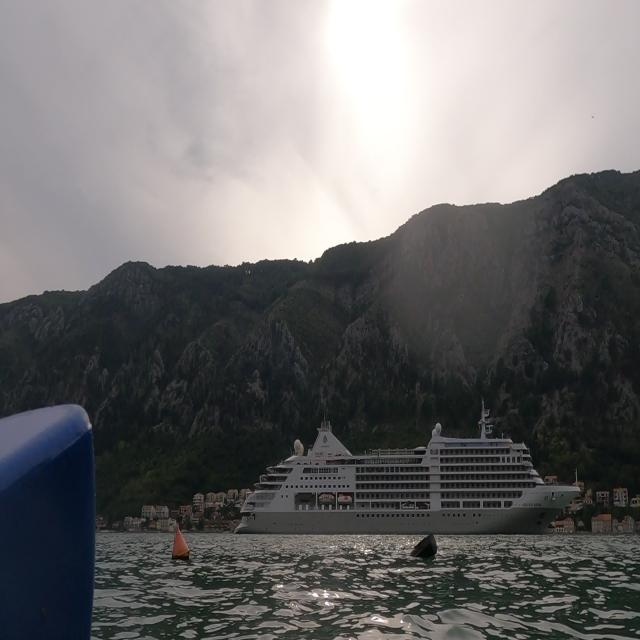boat: (232, 396, 582, 540)
buoy: (164, 514, 196, 570), (406, 526, 443, 566)
